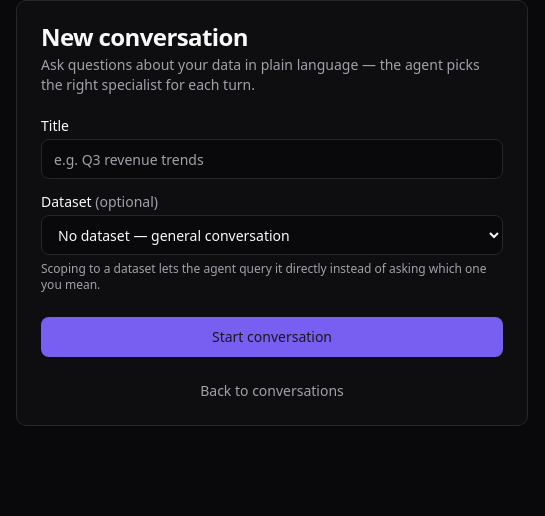
Test case: NewConversationPage › shows the API's error message on failure
Type "Q3 revenue trends" into the field labelled "Title" at (272, 159), box [41,139,503,179]
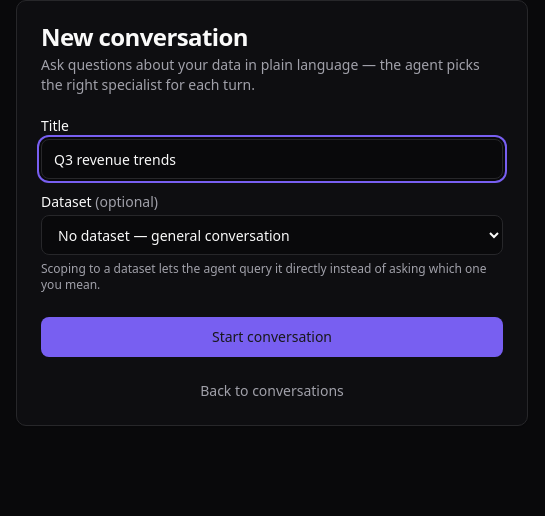
Click the button "Start conversation" at (272, 337), box [41,317,503,357]
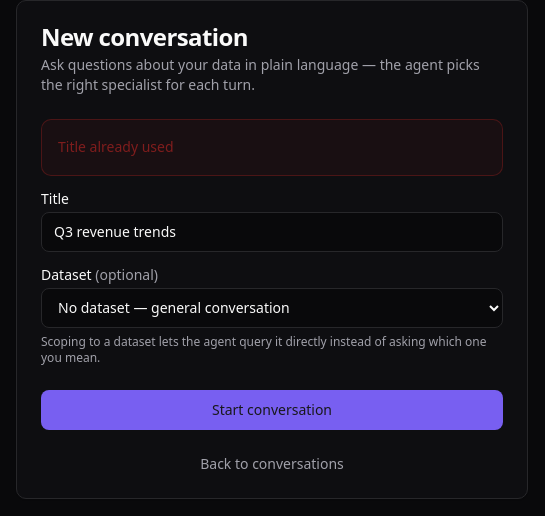
Expected: the text "Title already used" is shown, [58,137,174,156]
